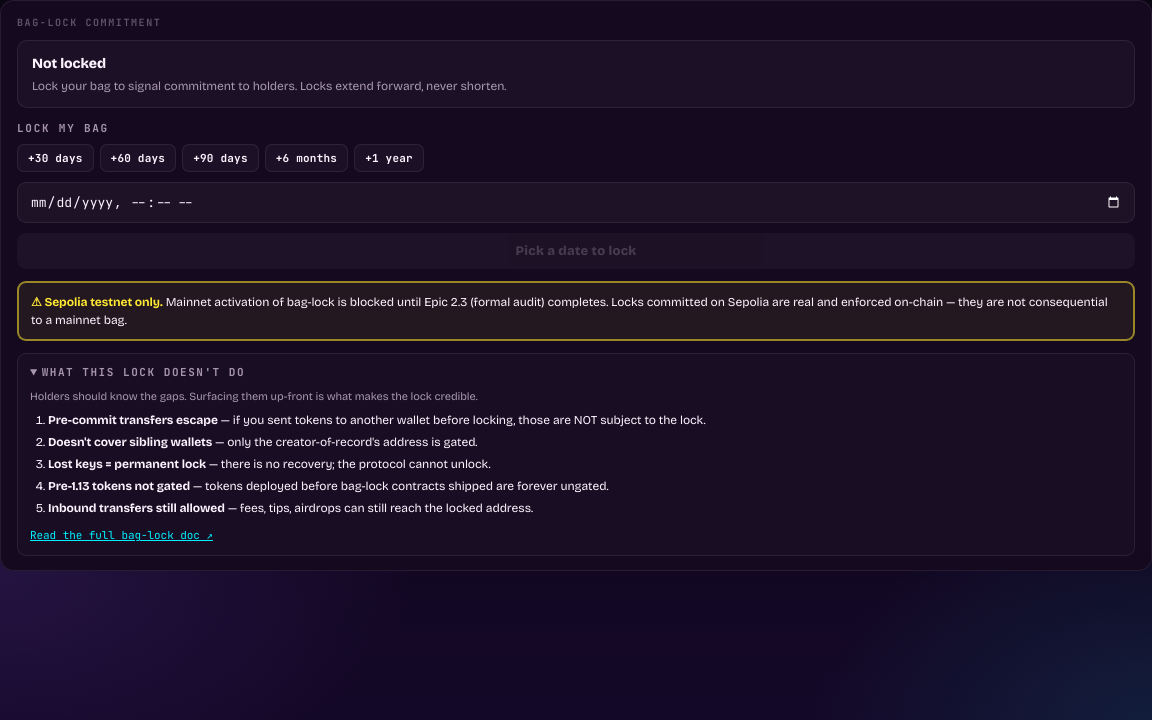
Test: BagLockCard — unlocked state › clicking a preset enables the submit button with the formatted date
This screenshot has width=1152, height=720.
Click the button with test id "baglock-preset-30" at coordinates (55, 158), box [17, 144, 94, 172]
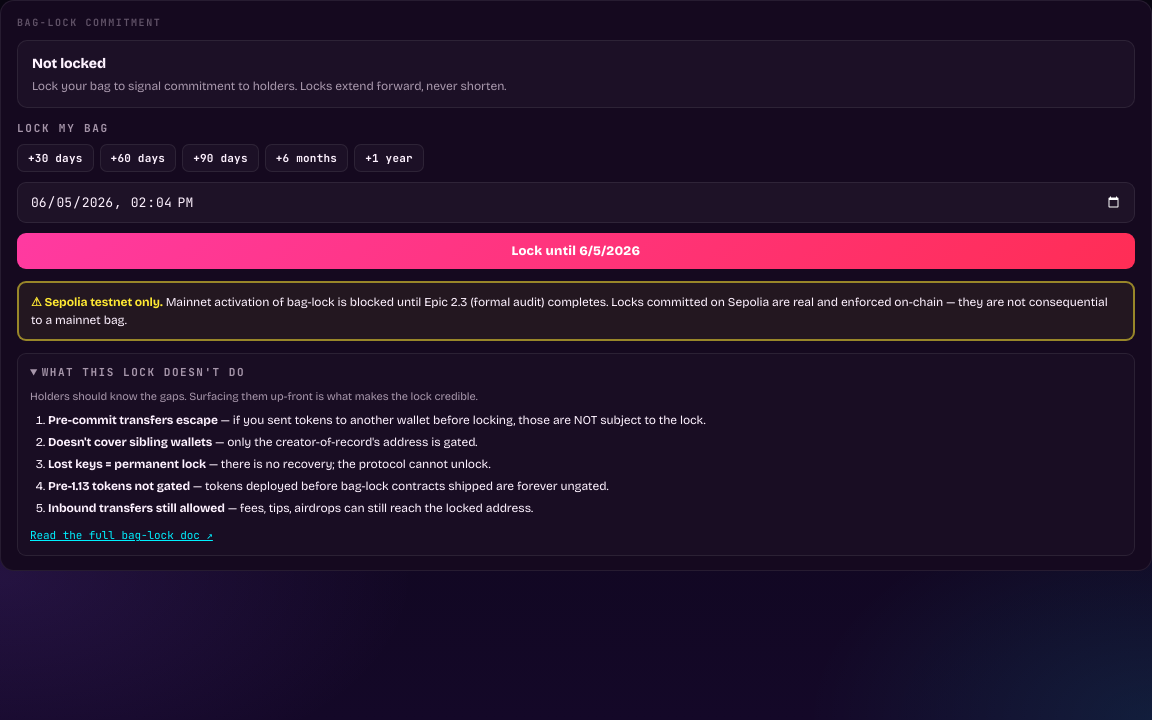
Result: the button with test id "baglock-submit" is enabled at [17, 233, 1135, 269]
